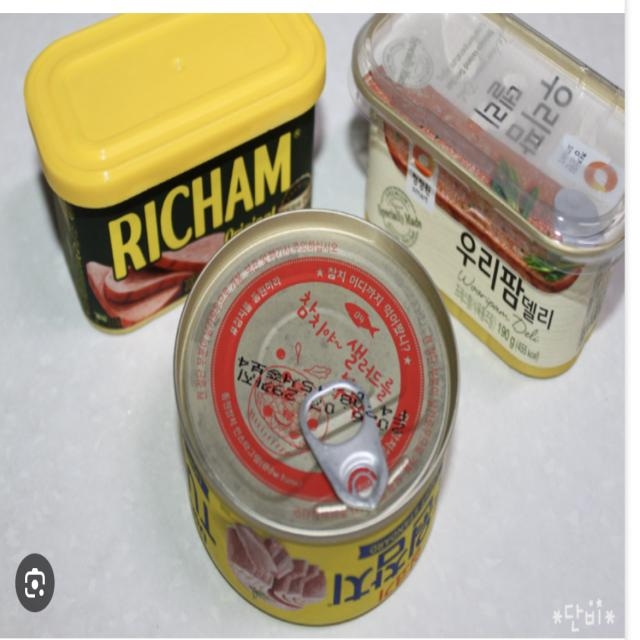recyclable: (157, 175, 478, 632)
